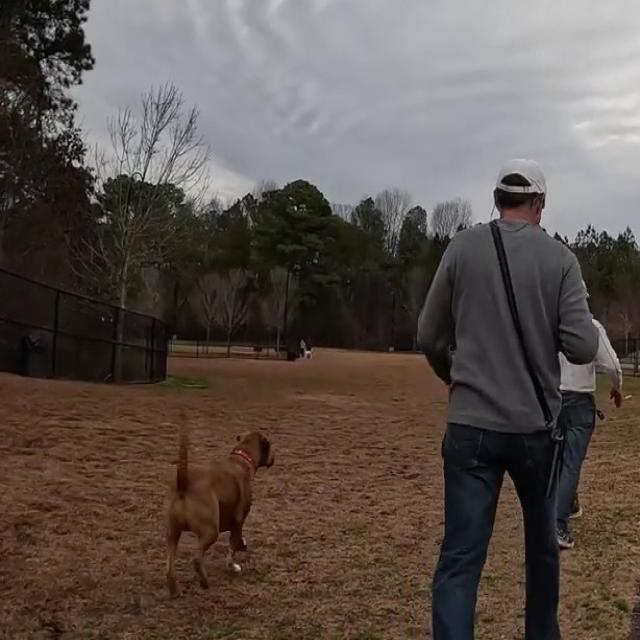Unleashed_Dog: (165, 430, 504, 594)
